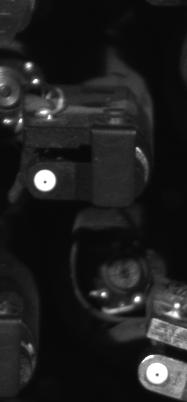fiber: (31, 166, 60, 196), (143, 360, 171, 387)
